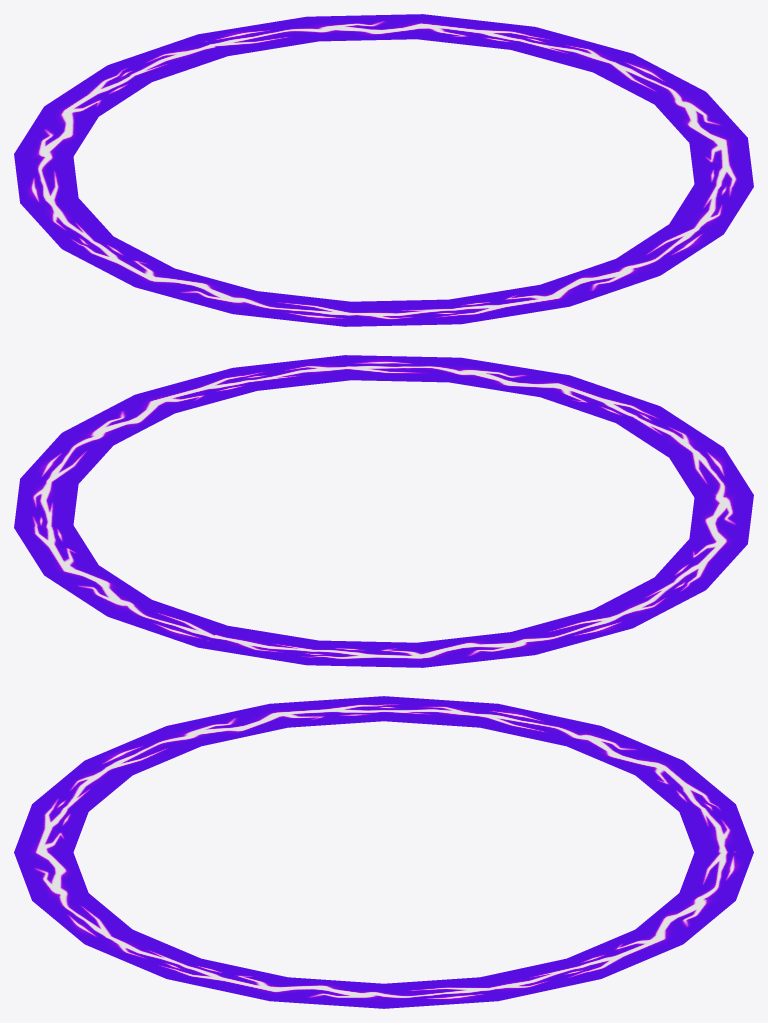
File: circ.fbx
3 renders of one model, top to bottom at view 1: azimuth 30°, elevation 25°; view 2: azimuth 150°, elevation 25°; view 3: azimuth 270°, elevation 25°, orthographic.
Parts seen in each view (by area): view 1: circ; view 2: circ; view 3: circ.
Boxes of the visible parts, left/top/right/bottom form: circ: left=14, top=14, right=753, bottom=326; circ: left=14, top=355, right=753, bottom=667; circ: left=14, top=696, right=753, bottom=1008.
Bounding box in the file's own units: 2 × 0 × 2.
